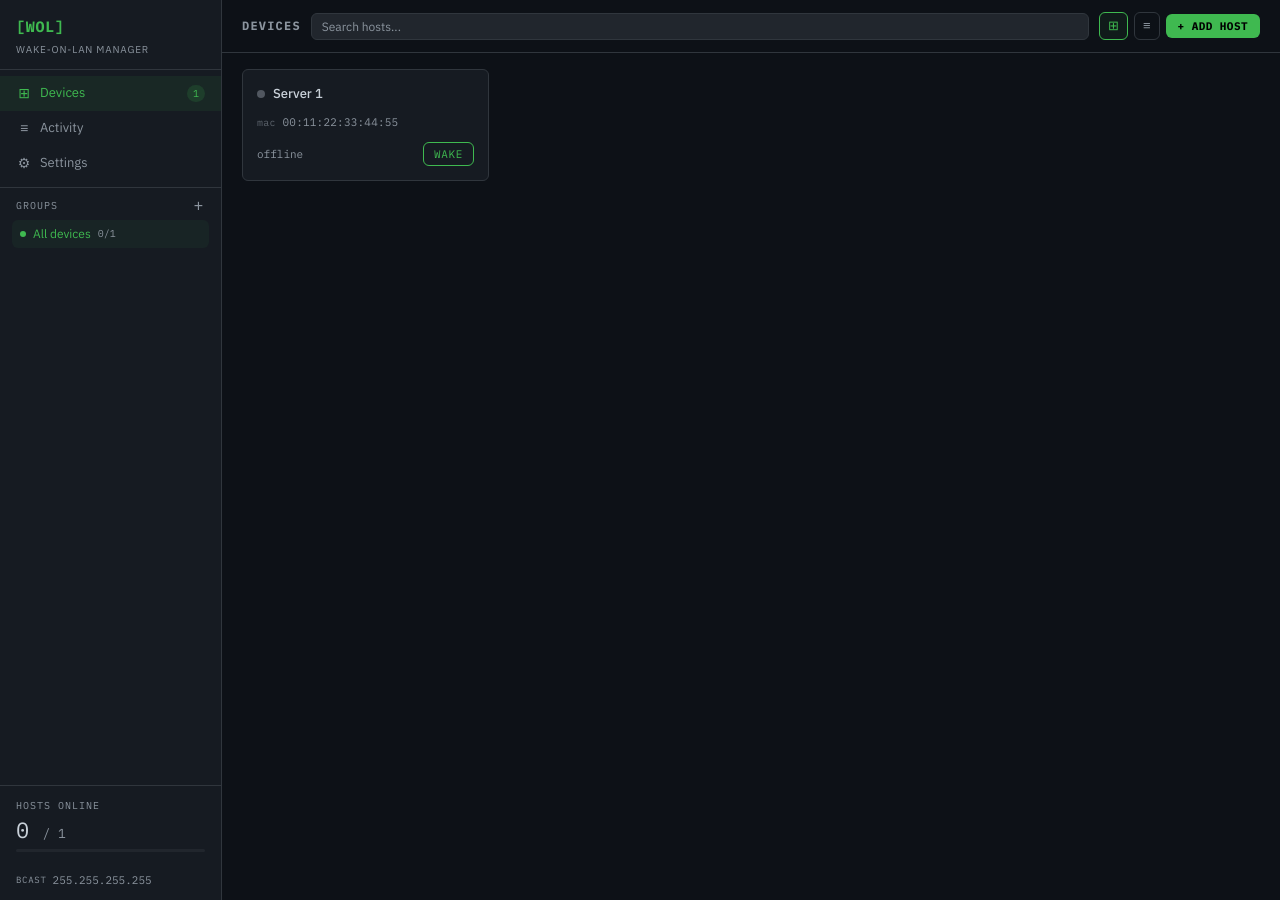
App › viewMode › switches to list view when list button is clicked
Check: the text "Server 1" is shown, box [273,85,323,102]
Click the button titled "List view": (1147, 26) [1134,12,1160,40]
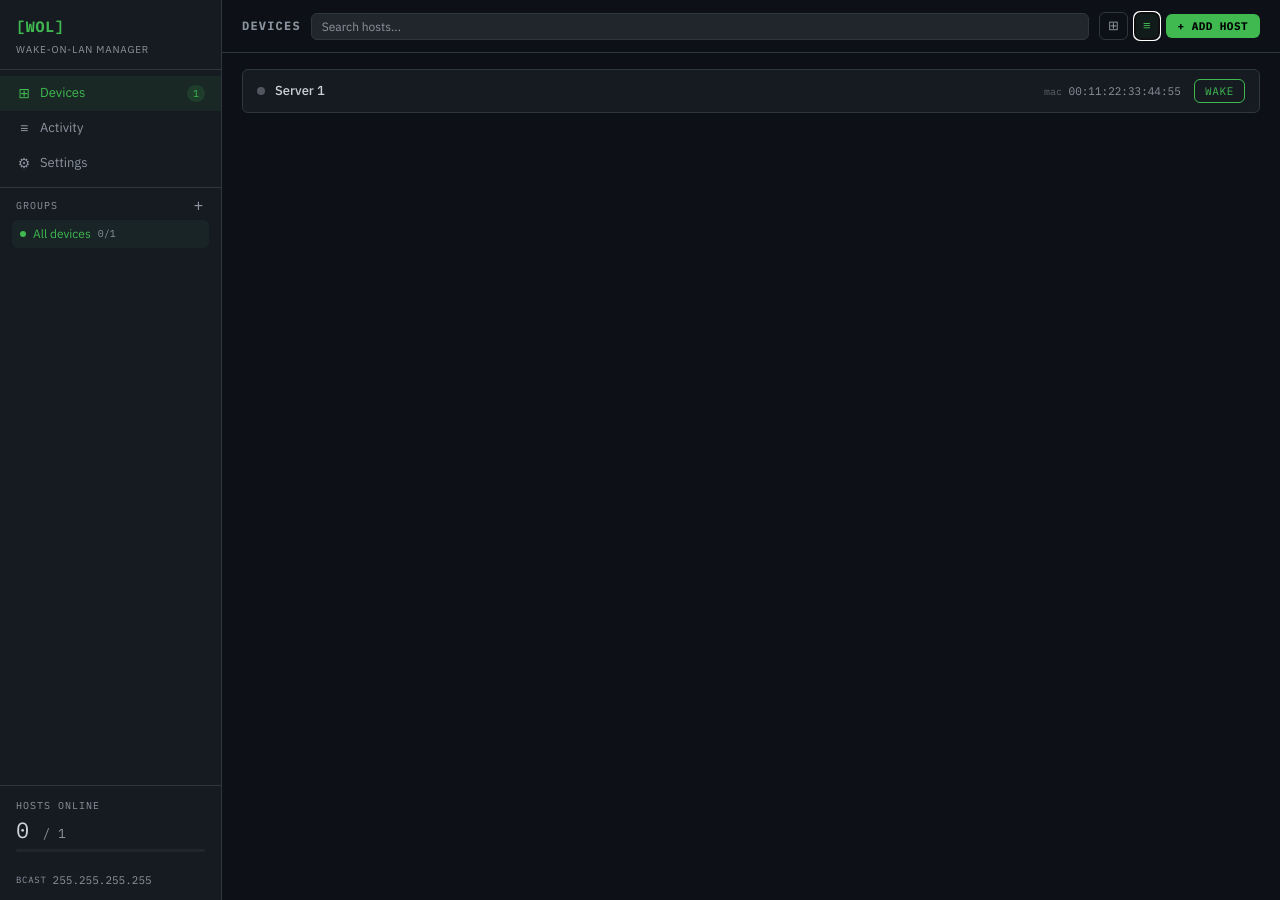
Check: the element with class "device-row" is shown, box [242,69,1260,113]
Check: the element with class "device-card" is gone
